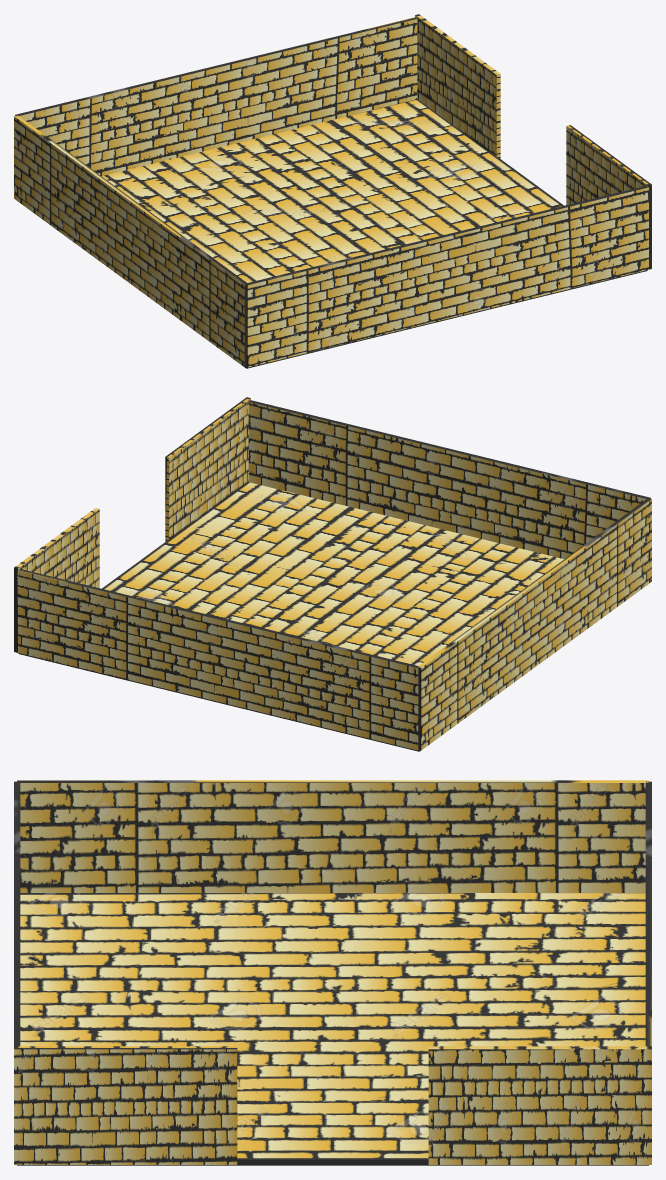
File: habitacion.fbx
3 renders of one model, top to bottom at view 1: azimuth 30°, elevation 25°; view 2: azimuth 150°, elevation 25°; view 3: azimuth 270°, elevation 25°, orthographic. The views are drawn at different scales.
Visible parts, largest first — view 1: Habitacion; view 2: Habitacion; view 3: Habitacion.
Part boxes in pixels (x1,y1,x2,y2): Habitacion: (14, 14, 651, 368); Habitacion: (14, 397, 651, 751); Habitacion: (14, 780, 651, 1165).
Size of the model in its own units: 1007 by 205 by 1000.
